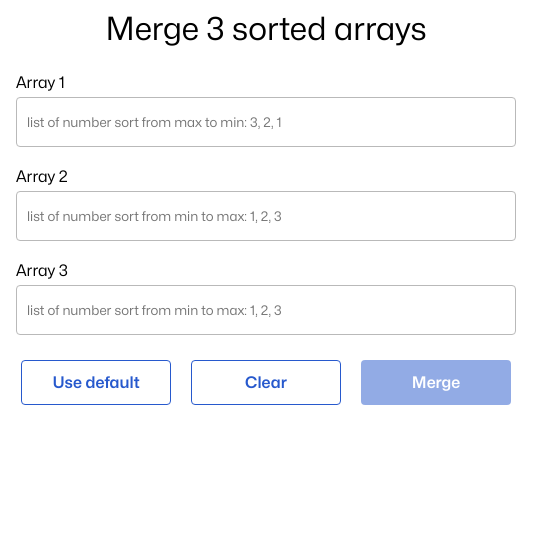
Test: <Home /> › clear 3 arrays
Step 1. Type "8, 3" into the field with id "array1-input" → (266,122), box [16,97,516,147]
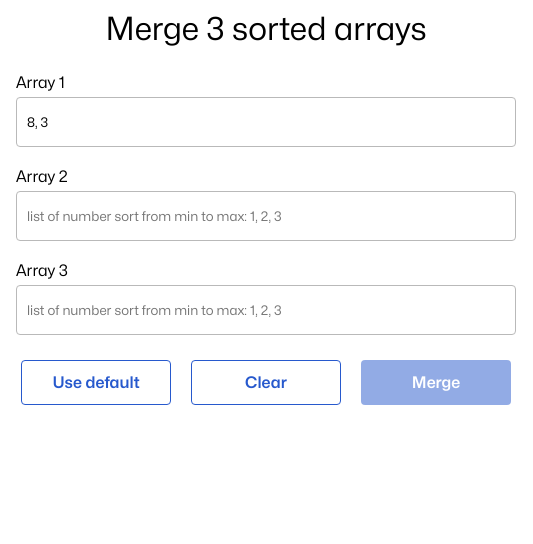
Step 2. Type "2, 5" into the field with id "array2-input" → (266,216), box [16,191,516,241]
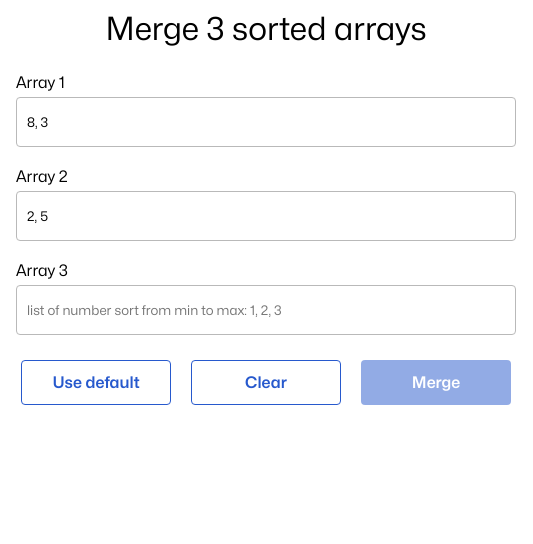
Step 3. Type "1, 6" into the field with id "array3-input" → (266,310), box [16,285,516,335]
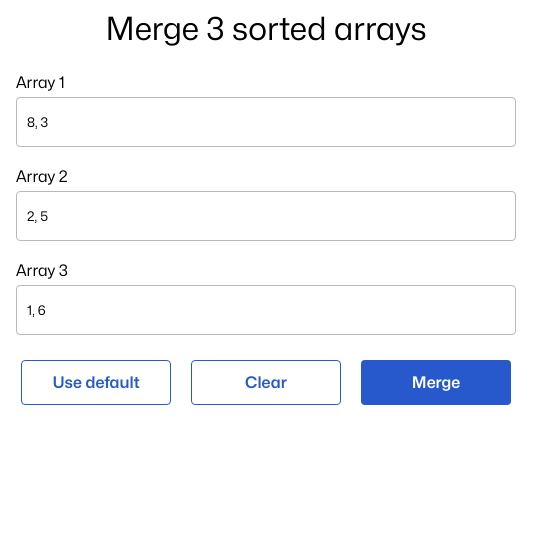
Step 4. Click the button with id "merge-button" → (436,382), box [361,360,511,405]
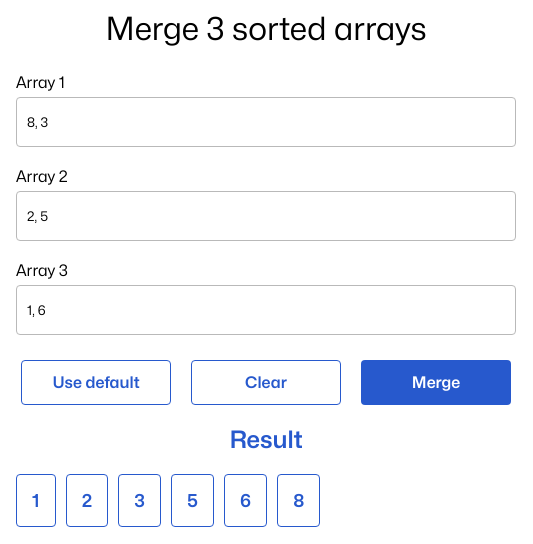
Check: the text "Result" is shown, box [229,425,303,454]
Step 5. Click the button with id "clear-button" → (266,382), box [191,360,341,405]
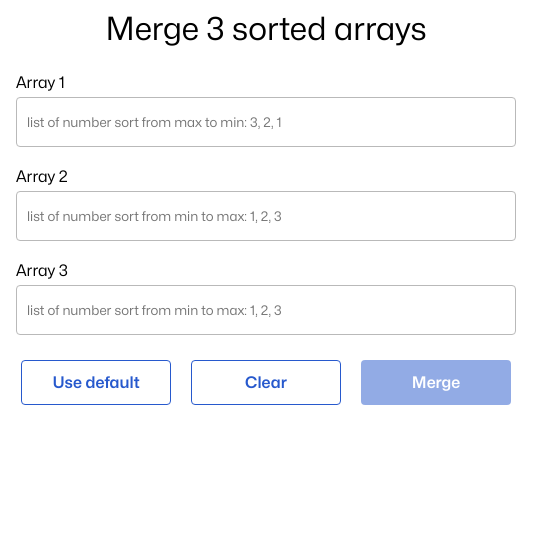
Check: the field with id "array1-input" is empty, box [16,97,516,147]
Check: the field with id "array2-input" is empty, box [16,191,516,241]
Check: the field with id "array3-input" is empty, box [16,285,516,335]
